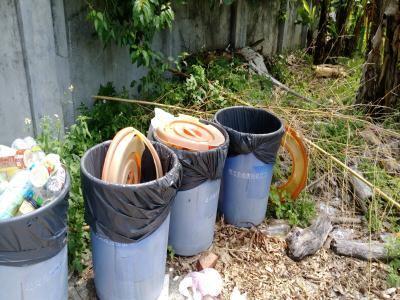bucket: (77, 134, 184, 300), (147, 113, 230, 258), (1, 165, 70, 300), (213, 103, 284, 227)
plate: (100, 125, 145, 185), (154, 116, 225, 151)
